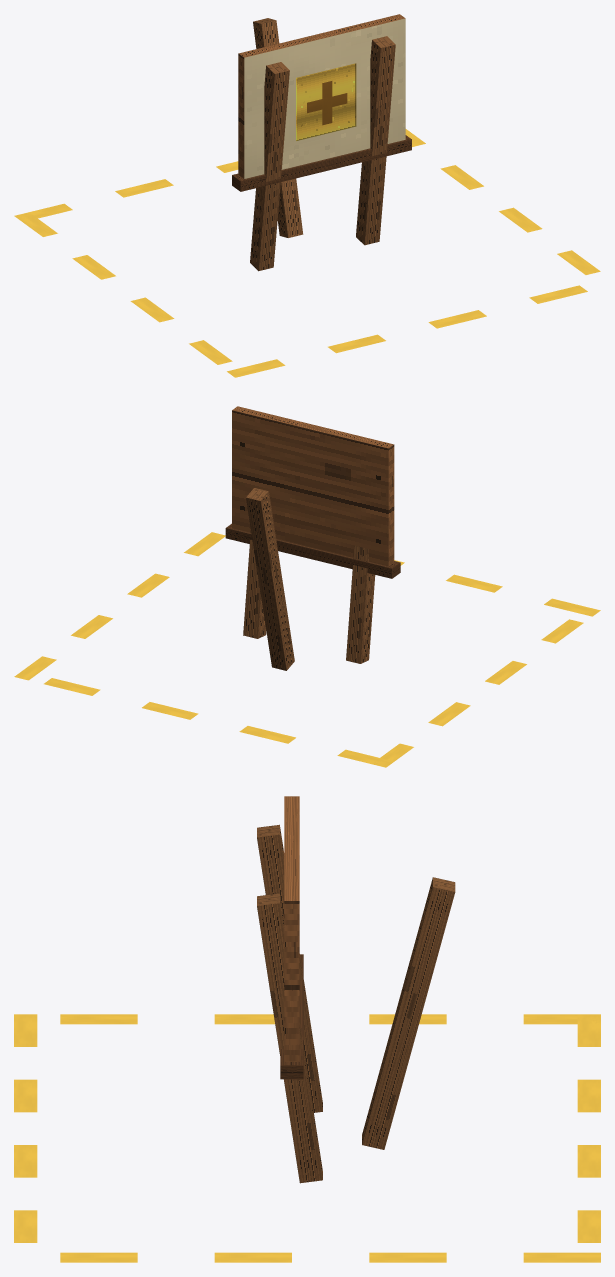
Rendered from slot_sign.glb.
3 renders of one model, top to bottom at view 1: azimuth 30°, elevation 25°; view 2: azimuth 150°, elevation 25°; view 3: azimuth 270°, elevation 25°, orthographic. The views are drawn at different scales.
Parts seen in each view (by area): view 1: root; view 2: root; view 3: root.
Part boxes in pixels (<box>): root: <box>14,14,600,377</box>; root: <box>14,406,600,767</box>; root: <box>14,796,600,1262</box>.
Bounding box in the file's own units: 103 × 57.19 × 103.
Materials: 2 (2 with a texture image).
